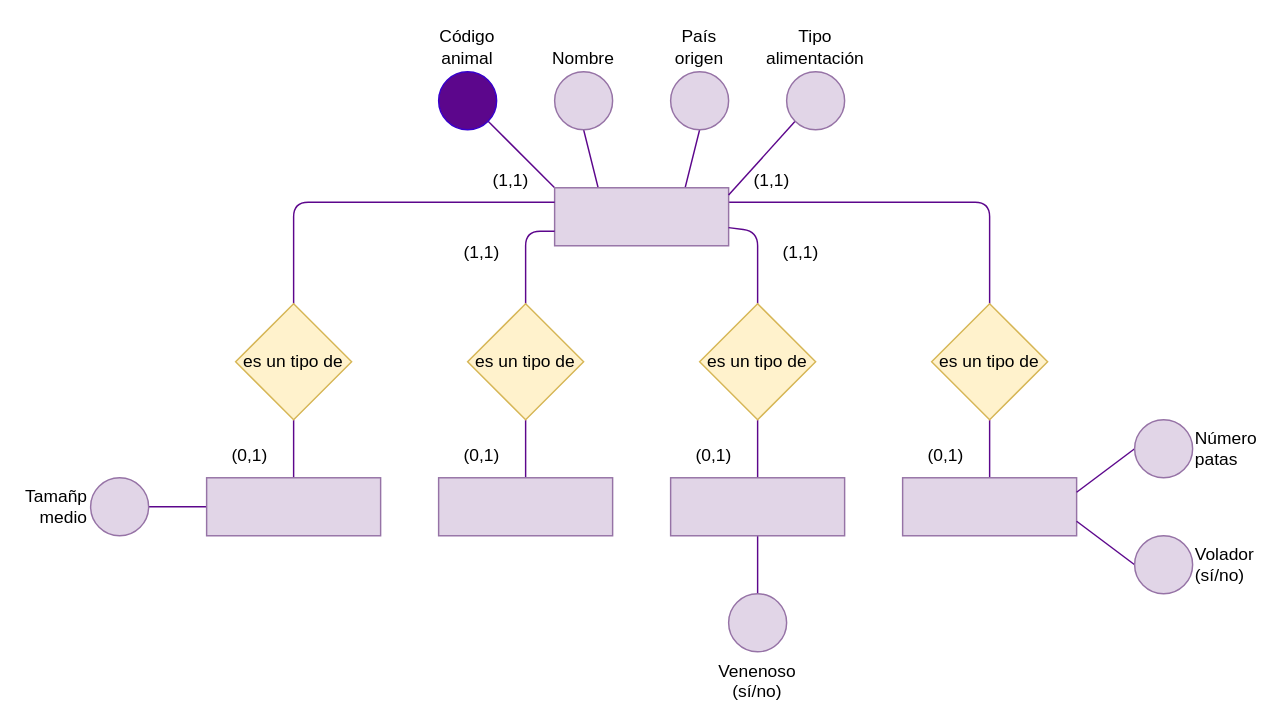
Image size: 1282x728. Some labels were removed from this diagram. The centre of each missing label's shape, as x and y in pixels:
"Animal" belongs at [641,216].
"Ave" belongs at [525,506].
"Felino" belongs at [293,506].
"Insecto" belongs at [989,506].
"Reptil" belongs at [757,506].
